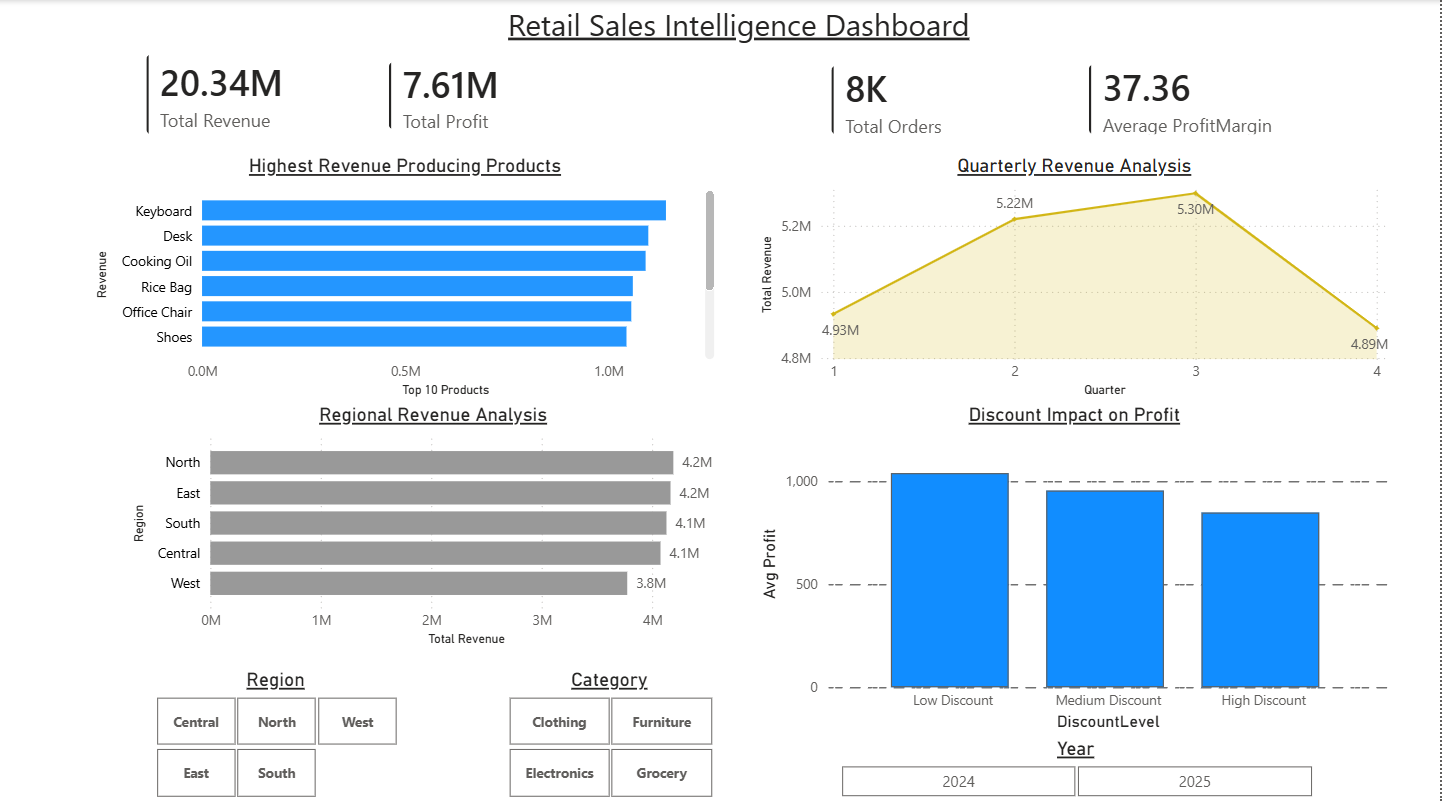

What the dashboard file says about the page in this screenshot:
{"tool":"powerbi","page":{"name":"Sales Overview","canvas":[1280,720],"ordinal":0},"visuals":[{"type":"cardVisual","fields":{"Data":["Sum(Retail_sales_cleaned.Revenue)"]},"box":[113.3,33.3,215.6,105.6],"z":0},{"type":"cardVisual","fields":{"Data":["Sum(Retail_sales_cleaned.Profit)"]},"box":[328.9,40,200,94.4],"z":1000},{"type":"cardVisual","fields":{"Data":["CountNonNull(Retail_sales_cleaned.OrderID)"]},"box":[722.2,43.3,228.9,95.6],"z":2000},{"type":"cardVisual","fields":{"Data":["Avg(Retail_sales_cleaned.ProfitMargin)"]},"box":[951.1,42.2,228.9,96.7],"z":3000},{"type":"clusteredBarChart","title":"Regional Revenue Analysis","fields":{"Category":["Retail_sales_cleaned.Region"],"Y":["Sum(Retail_sales_cleaned.Revenue)"]},"box":[113.3,360,543.3,221.1],"z":4000},{"type":"lineChart","title":"Quarterly Revenue Analysis","fields":{"Category":["Retail_sales_cleaned.Quarter"],"Y":["Sum(Retail_sales_cleaned.Revenue)"]},"box":[671.1,138.9,567.8,221.1],"z":5000},{"type":"clusteredBarChart","title":"Highest Revenue Producing Products","fields":{"Category":["Retail_sales_cleaned.ProductName"],"Y":["Sum(Retail_sales_cleaned.Revenue)"]},"box":[80,138.9,560,221.1],"z":6000},{"type":"clusteredColumnChart","title":"Discount Impact on Profit","fields":{"Category":["Retail_sales_cleaned.DiscountLevel"],"Y":["Avg(Retail_sales_cleaned.Profit)"]},"box":[671.1,360,567.8,296.7],"z":7000},{"type":"slicer","title":"Region","fields":{"Values":["Retail_sales_cleaned.Region"]},"box":[113.3,595.6,263.3,121.1],"z":8000},{"type":"slicer","title":"Category","fields":{"Values":["Retail_sales_cleaned.Category"]},"box":[426.7,595.6,230,121.1],"z":9000},{"type":"slicer","title":"Year","fields":{"Values":["Retail_sales_cleaned.Year"]},"box":[722.2,656.7,467.8,60],"z":10000},{"type":"textbox","box":[440,0,433.3,52.2],"z":11000}]}

Visuals, with their boxes in screenshot pixels (x1, y1, x2, y2), scaled from the page's 1280x720 canvas onto the 1442x802 screenshot:
cardVisual - Sum(Retail_sales_cleaned.Revenue): l=128, t=37, r=371, b=155
cardVisual - Sum(Retail_sales_cleaned.Profit): l=371, t=45, r=596, b=150
cardVisual - CountNonNull(Retail_sales_cleaned.OrderID): l=814, t=48, r=1071, b=155
cardVisual - Avg(Retail_sales_cleaned.ProfitMargin): l=1071, t=47, r=1329, b=155
"Regional Revenue Analysis" clusteredBarChart: l=128, t=401, r=740, b=647
"Quarterly Revenue Analysis" lineChart: l=756, t=155, r=1396, b=401
"Highest Revenue Producing Products" clusteredBarChart: l=90, t=155, r=721, b=401
"Discount Impact on Profit" clusteredColumnChart: l=756, t=401, r=1396, b=731
"Region" slicer: l=128, t=663, r=424, b=798
"Category" slicer: l=481, t=663, r=740, b=798
"Year" slicer: l=814, t=731, r=1341, b=798
textbox: l=496, t=0, r=984, b=58
